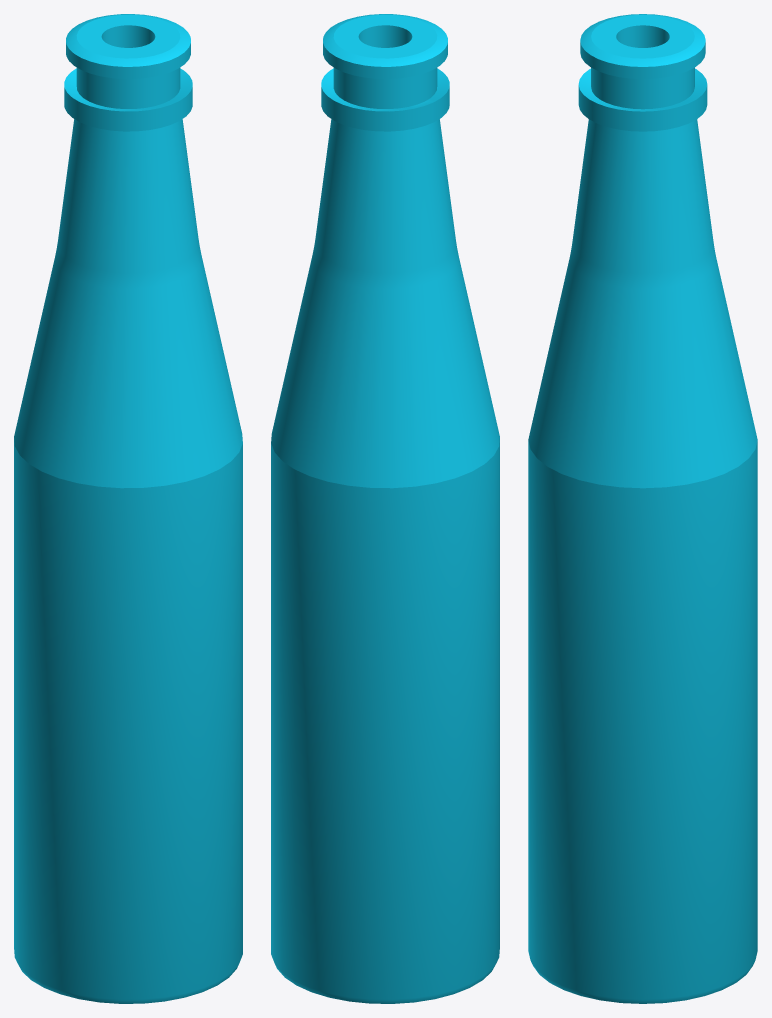
Rendered from bottle.fbx.
3 views of the same model, side by side, from view 1: azimuth 30°, elevation 25°; view 2: azimuth 150°, elevation 25°; view 3: azimuth 270°, elevation 25° (orthographic).
Parts seen in each view (by area): view 1: botol; view 2: botol; view 3: botol.
Part boxes in pixels (left/top/right/bottom): botol: left=14, top=14, right=242, bottom=1003; botol: left=271, top=14, right=499, bottom=1003; botol: left=528, top=14, right=757, bottom=1003.
Bounding box in the file's own units: 282 × 1250 × 282.
